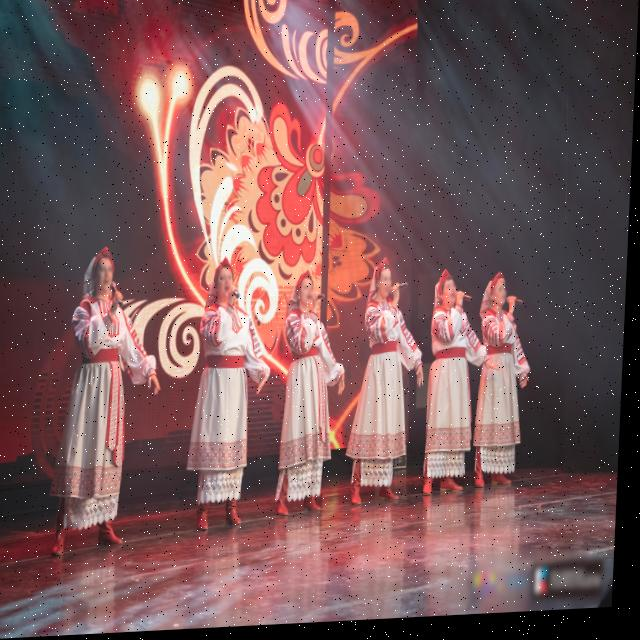Person: (60, 233, 151, 563), (188, 248, 270, 553), (345, 261, 423, 527), (276, 270, 346, 524), (478, 266, 539, 507), (425, 272, 483, 516)
